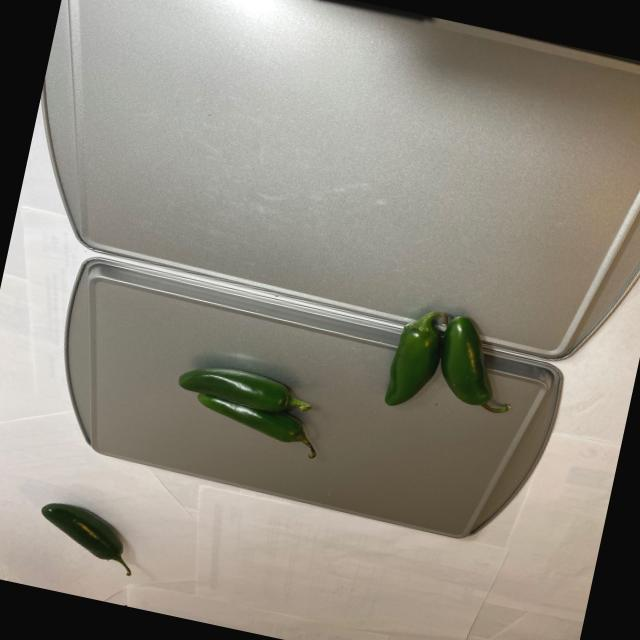chilli: (373, 292, 531, 434), (165, 356, 336, 462), (21, 484, 158, 583)
